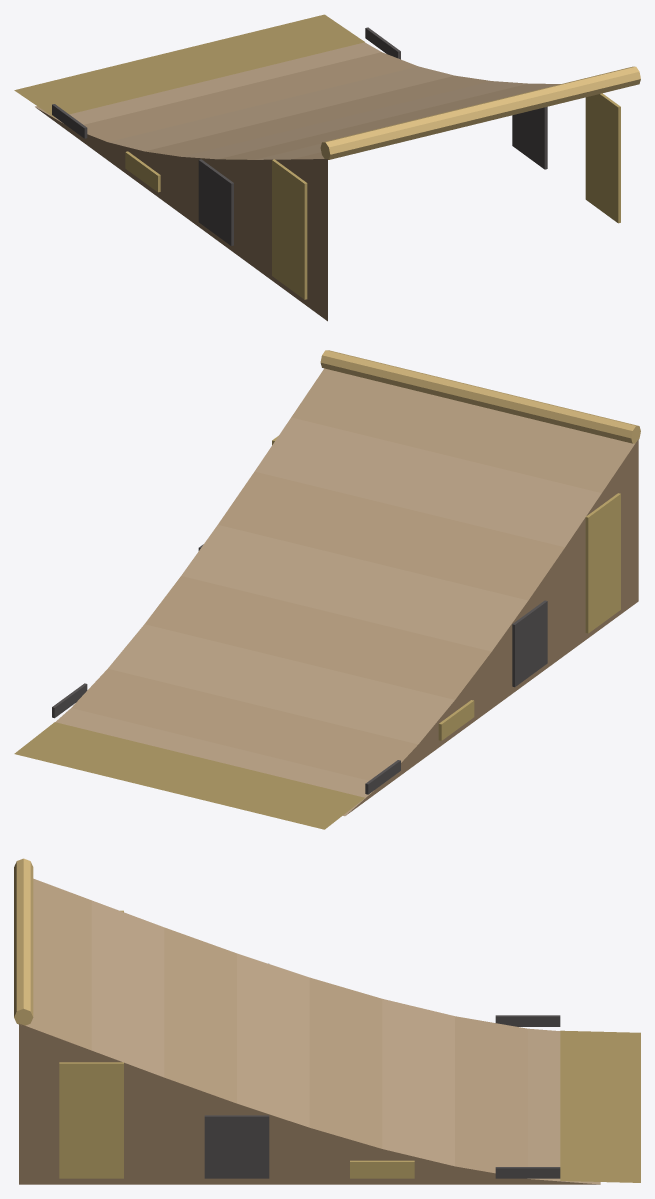
File: noturno-ramp.glb
The picture shows the model from 3 angles, top to bottom: view 1: azimuth 30°, elevation 25°; view 2: azimuth 150°, elevation 25°; view 3: azimuth 270°, elevation 25°; orthographic projection.
Parts seen in each view (by area): view 1: noturno_ramp_body, noturno_ramp_glow; view 2: noturno_ramp_body, noturno_ramp_glow; view 3: noturno_ramp_body, noturno_ramp_glow.
Part boxes in pixels (box(x1,y1,x2,y2)): noturno_ramp_body: box(14, 14, 620, 321); noturno_ramp_glow: box(320, 66, 640, 159); noturno_ramp_body: box(14, 368, 638, 829); noturno_ramp_glow: box(320, 350, 640, 443); noturno_ramp_body: box(19, 878, 640, 1184); noturno_ramp_glow: box(14, 858, 33, 1025).
Bounding box in the file's own units: 2.24 × 1.2 × 3.88.
